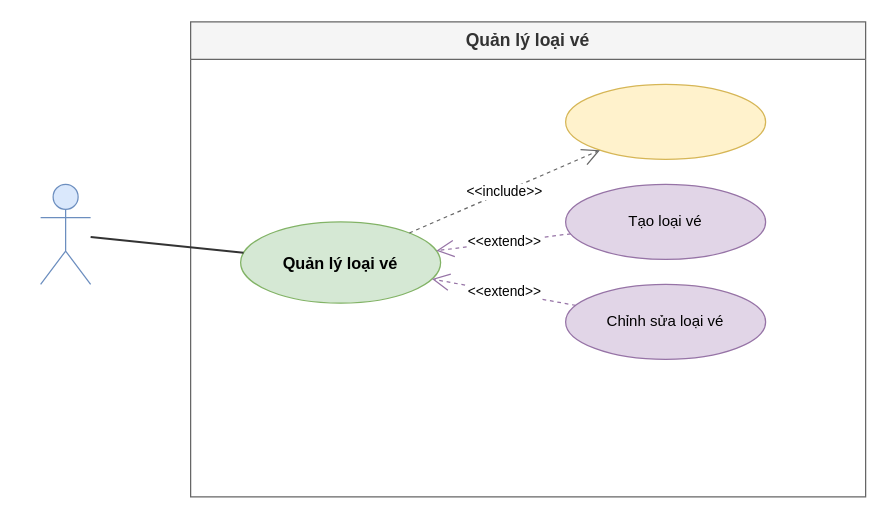
The diagram is 888 pixels wide and 519 high, and some of its shapes have lost their labels. The shapes that lost their labels are listed below. From the top down, each one's centre as x and y in pixels, then its label:
At pixel 665 121: "Xem danh sách loại vé".
At pixel 65 233: "Ban tổ chức".
